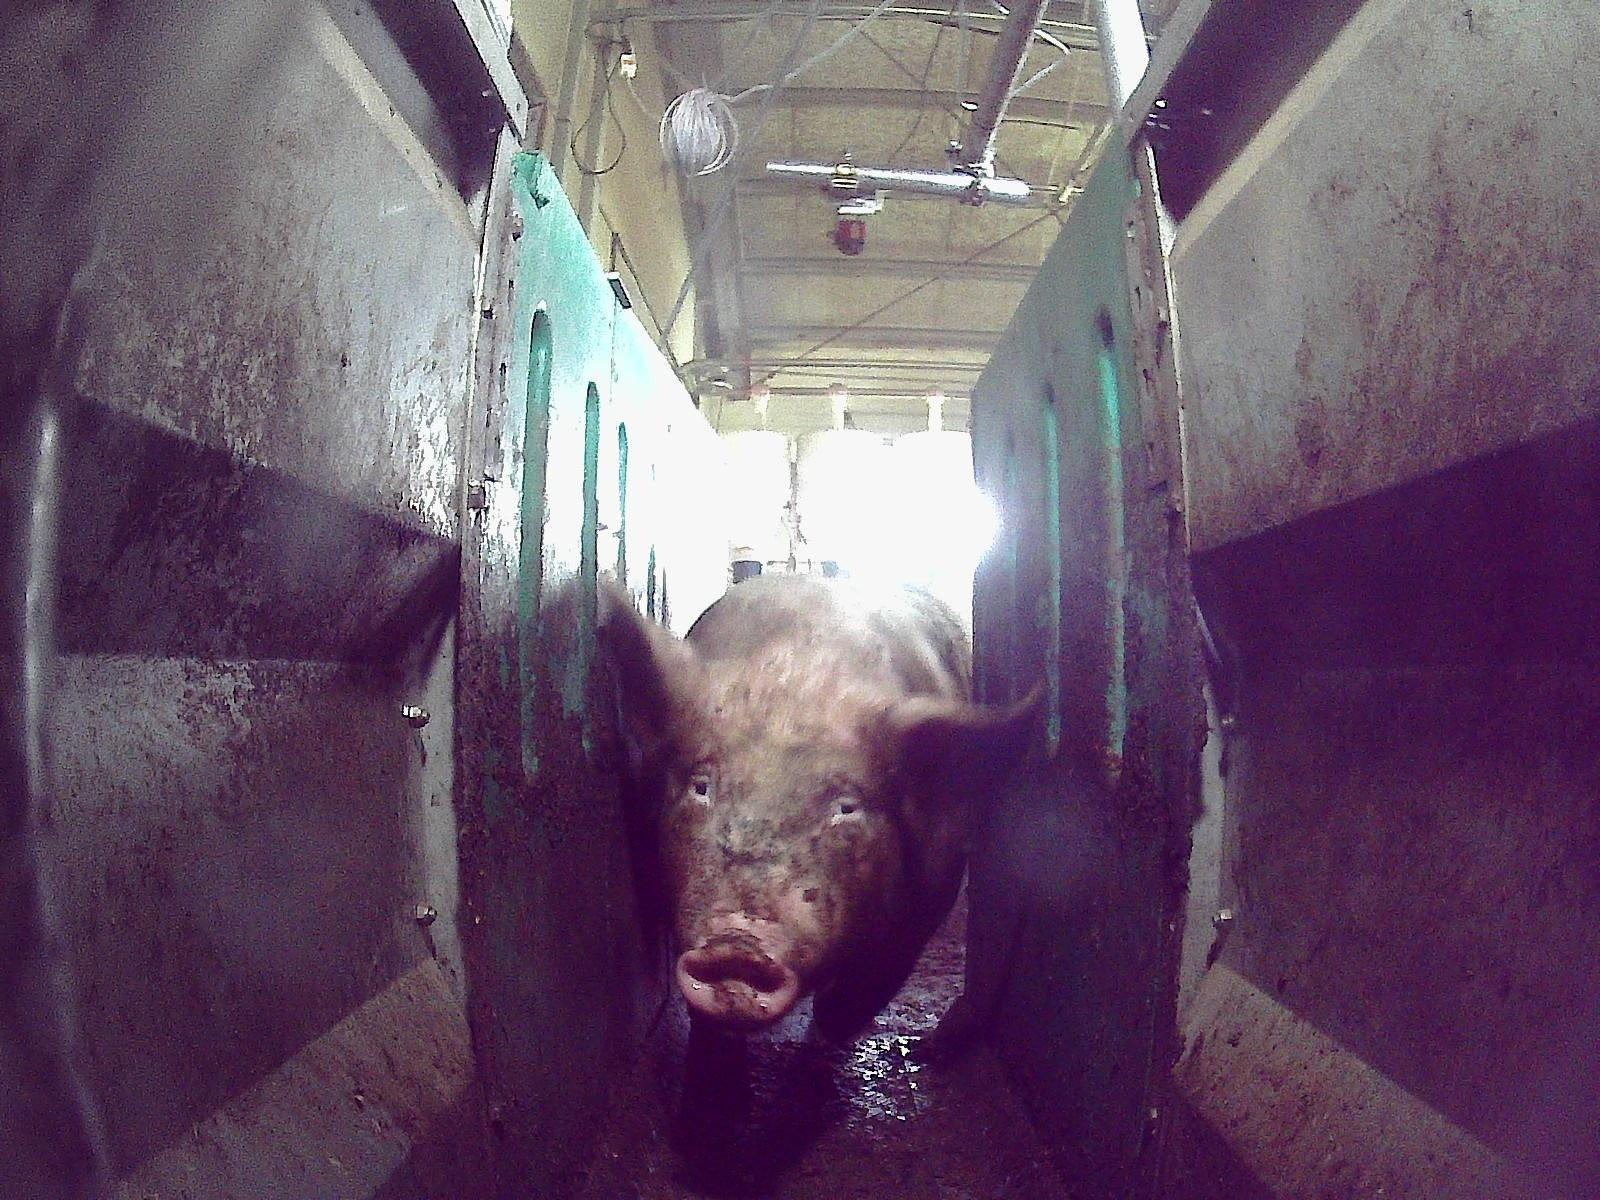Face: (632, 665, 910, 1024)
